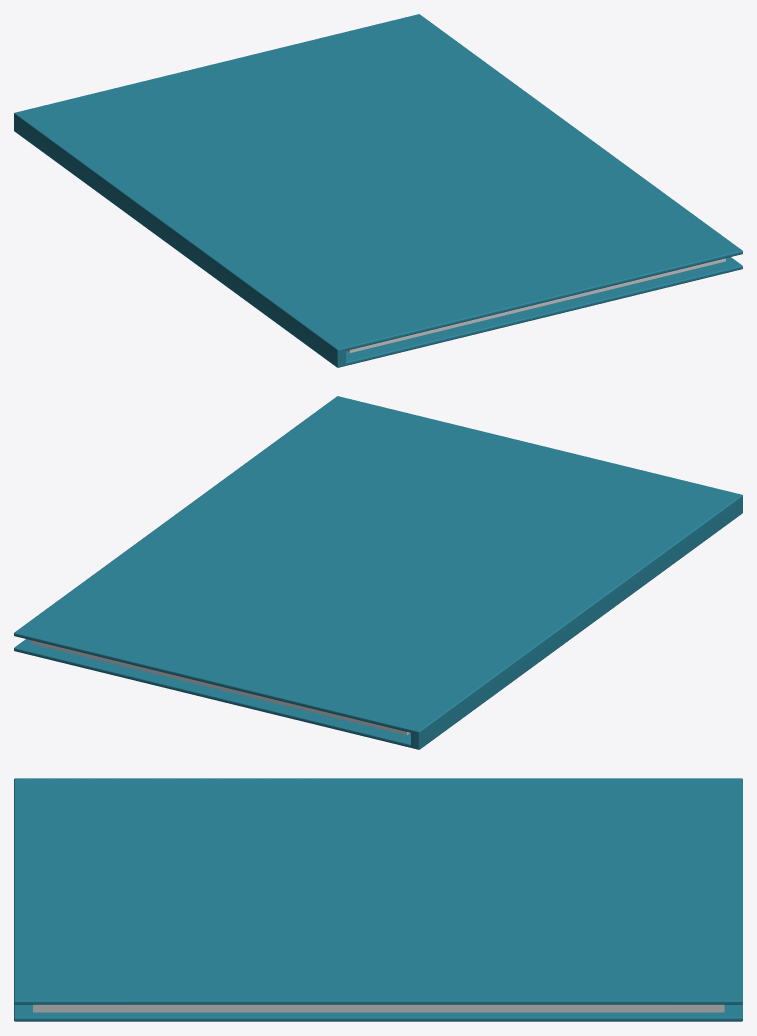
The model's file is patient_folder.fbx.
3 views of the same model, one above another, from view 1: azimuth 30°, elevation 25°; view 2: azimuth 150°, elevation 25°; view 3: azimuth 270°, elevation 25° (orthographic). The views are drawn at different scales.
Parts seen in each view (by area): view 1: EQ_patient_folder_Cover, EQ_patient_folder_Spine, EQ_patient_folder_Body, EQ_patient_folder_Pages; view 2: EQ_patient_folder_Cover, EQ_patient_folder_Spine, EQ_patient_folder_Body, EQ_patient_folder_Pages; view 3: EQ_patient_folder_Cover, EQ_patient_folder_Body, EQ_patient_folder_Pages, EQ_patient_folder_Spine.
Boxes of the visible parts, x1,y1,x2,y2 form: EQ_patient_folder_Cover: (16, 14, 742, 351); EQ_patient_folder_Spine: (14, 112, 345, 367); EQ_patient_folder_Body: (339, 257, 742, 367); EQ_patient_folder_Pages: (346, 258, 725, 353); EQ_patient_folder_Cover: (14, 396, 740, 733); EQ_patient_folder_Spine: (411, 494, 742, 749); EQ_patient_folder_Body: (14, 639, 417, 749); EQ_patient_folder_Pages: (31, 640, 410, 735); EQ_patient_folder_Cover: (14, 779, 742, 1004); EQ_patient_folder_Body: (14, 1004, 742, 1021); EQ_patient_folder_Pages: (32, 1004, 724, 1012); EQ_patient_folder_Spine: (14, 778, 742, 782).
Size of the model in its own units: 0.2265 by 0.01 by 0.313.
